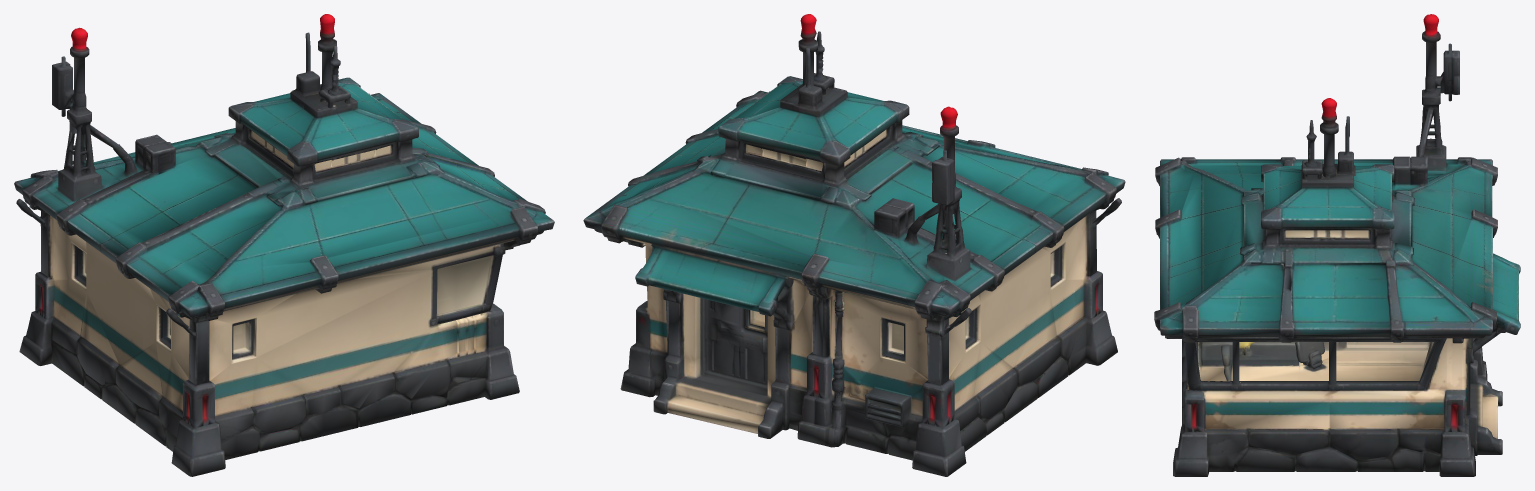
File: pack-guard-post.glb
3 renders of one model, left to right at view 1: azimuth 30°, elevation 25°; view 2: azimuth 150°, elevation 25°; view 3: azimuth 270°, elevation 25°, orthographic. The views are drawn at different scales.
Parts seen in each view (by area): view 1: tripo_node_4fe147d8-f1c6-42d0-9258-f5db4aac46fd; view 2: tripo_node_4fe147d8-f1c6-42d0-9258-f5db4aac46fd; view 3: tripo_node_4fe147d8-f1c6-42d0-9258-f5db4aac46fd.
Part boxes in pixels (x1=…): tripo_node_4fe147d8-f1c6-42d0-9258-f5db4aac46fd: x1=14, y1=14, x2=554, y2=476; tripo_node_4fe147d8-f1c6-42d0-9258-f5db4aac46fd: x1=583, y1=14, x2=1125, y2=476; tripo_node_4fe147d8-f1c6-42d0-9258-f5db4aac46fd: x1=1154, y1=14, x2=1520, y2=476.
Bounding box in the file's own units: 0.9778 × 0.8515 × 0.8668.
1 material, 1 textured.
